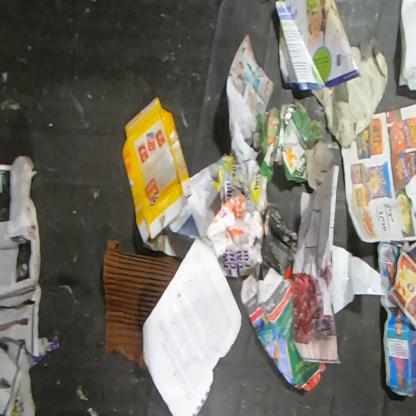cardboard: (121, 96, 194, 245), (102, 238, 183, 369)
metal: (284, 106, 296, 126)
